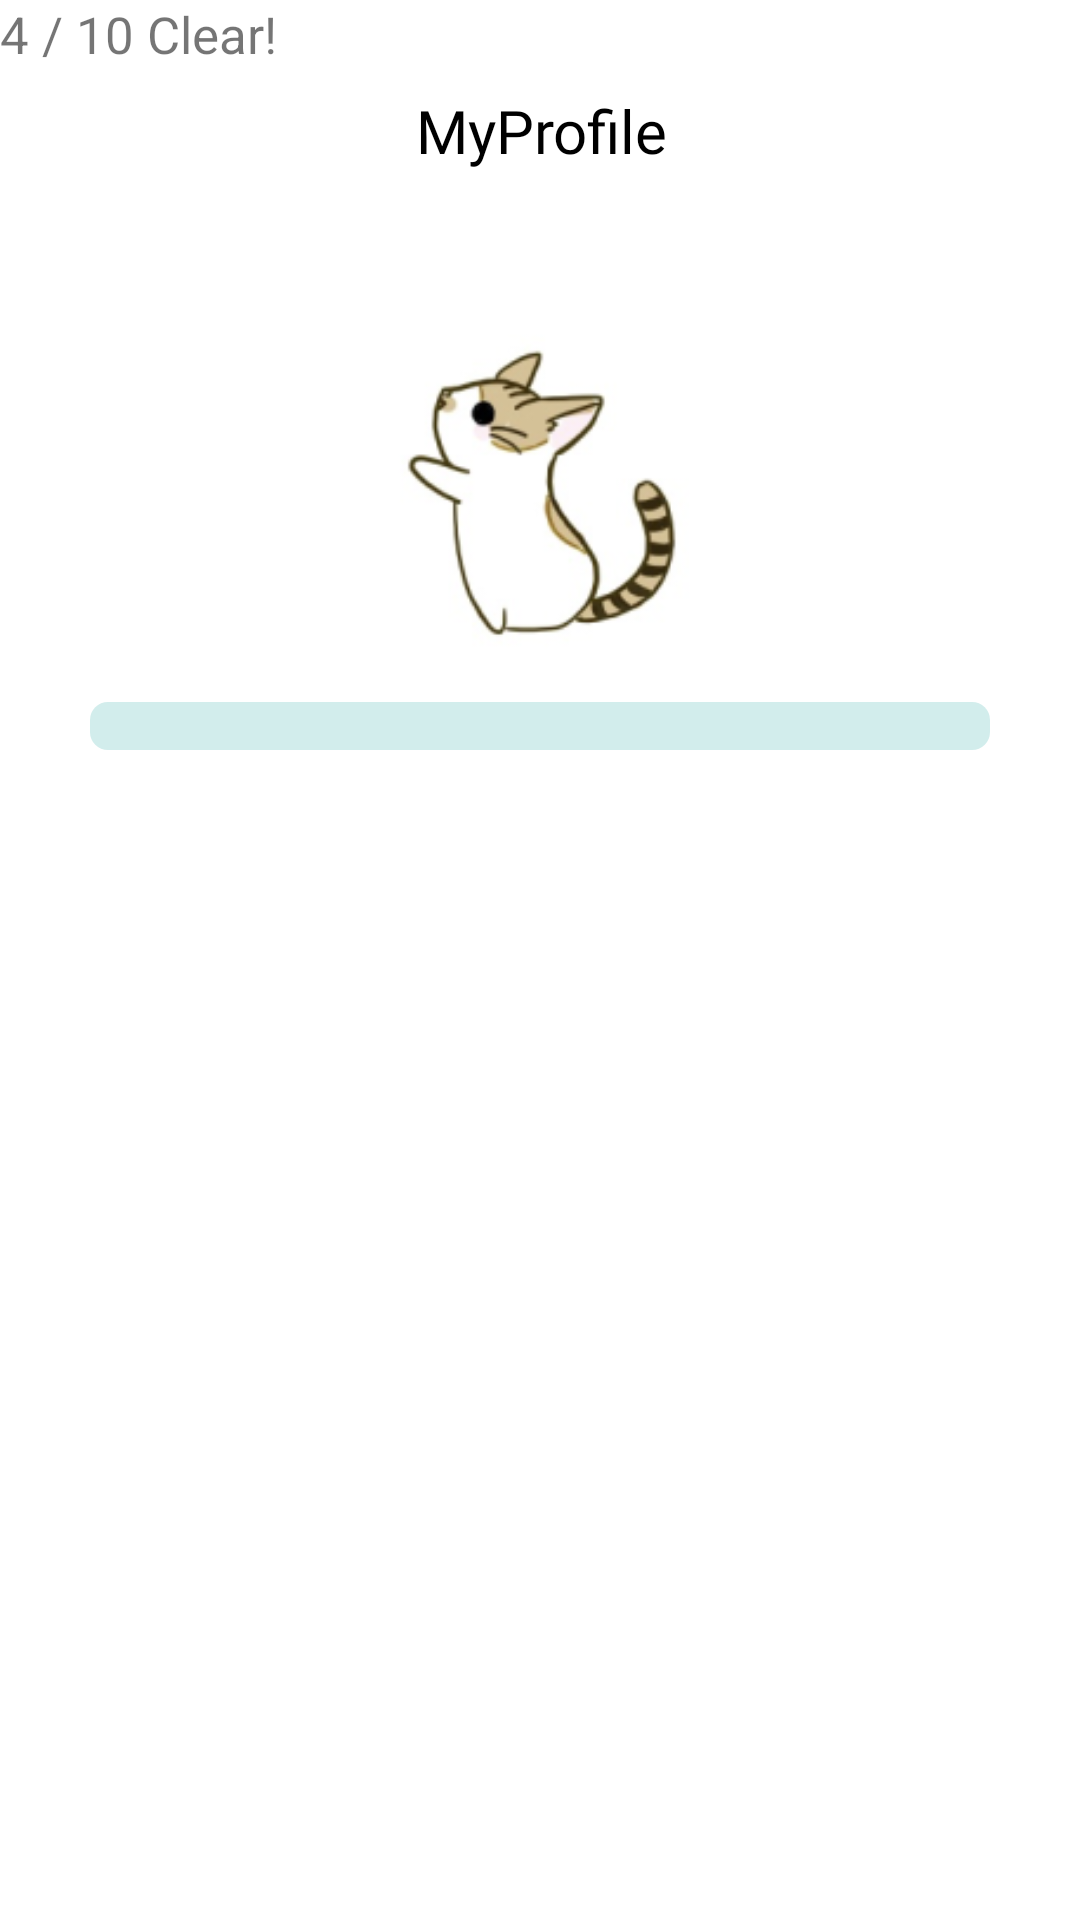

Icon bounding boxes for this 1080 x 1920 phone screenshot, format (left=x1, top=y1, right=x2, bottom=y2):
cat: (left=408, top=351, right=676, bottom=635)
